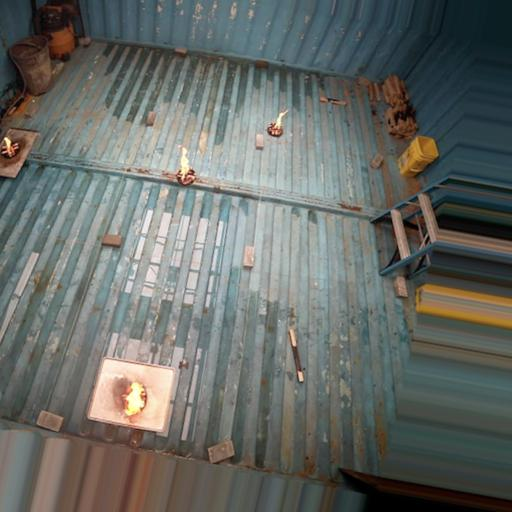Fire: (124, 380, 145, 418), (179, 146, 190, 179), (274, 109, 287, 129), (4, 136, 12, 149)
